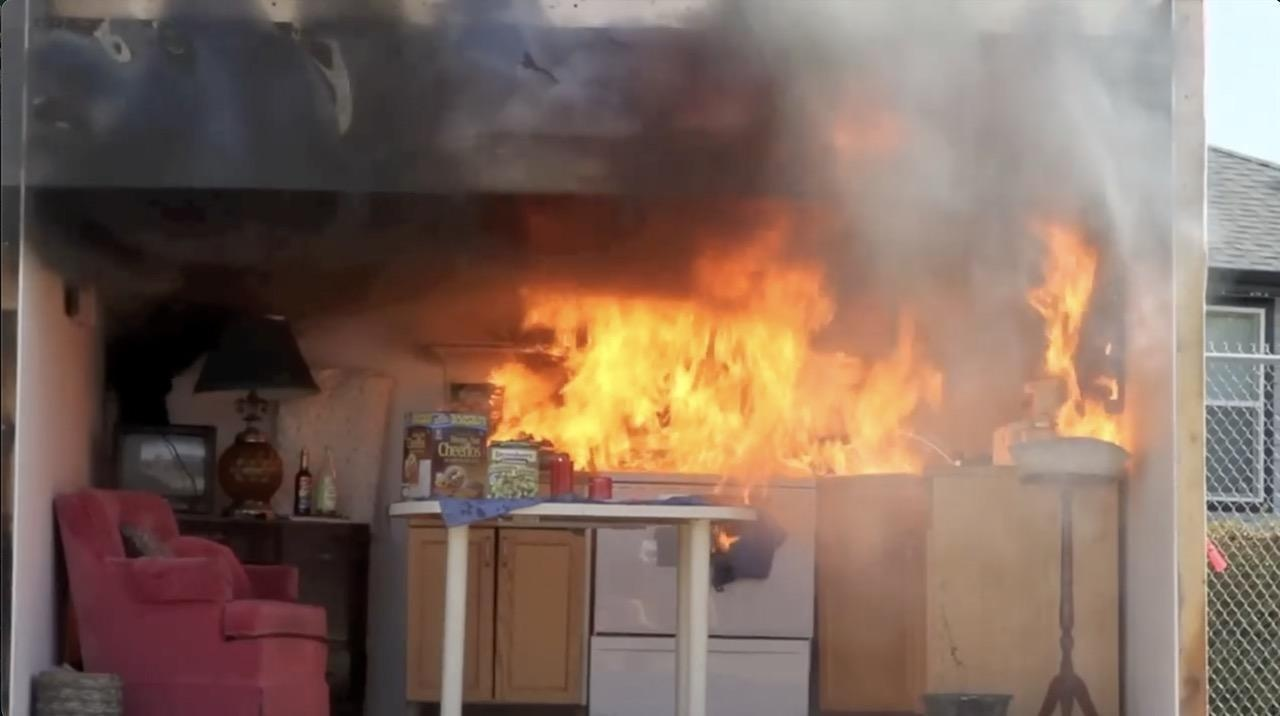fire: (474, 229, 1159, 523)
